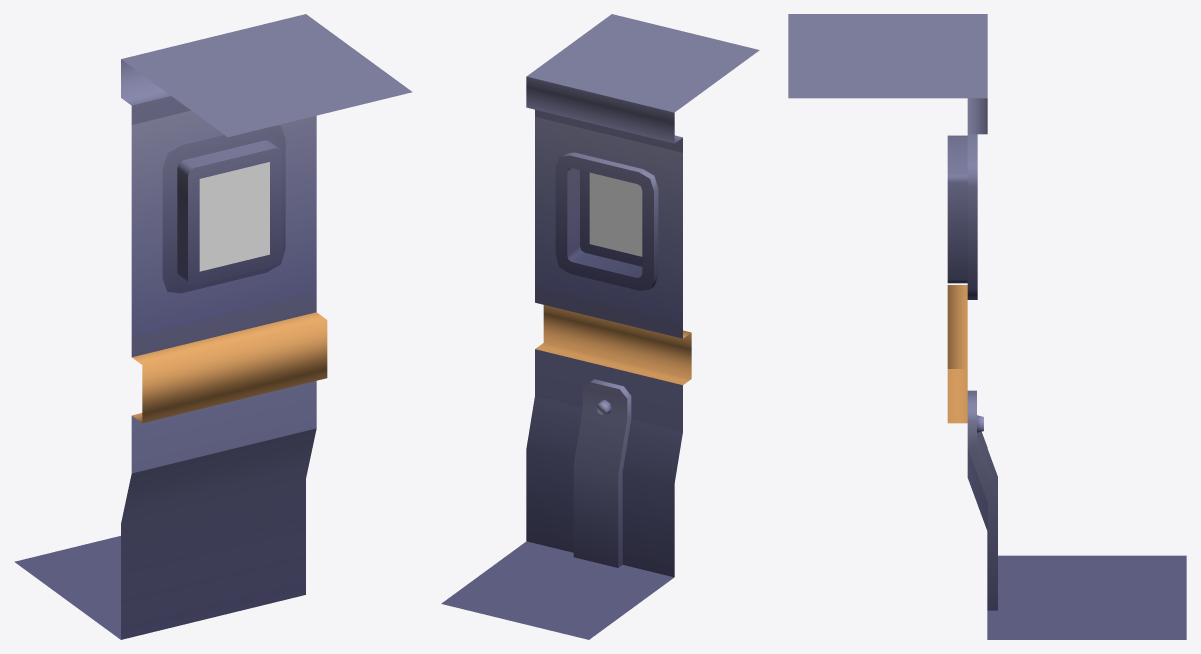
The model's file is kenney-factory-structure-window.glb.
3 views of the same model, side by side, from view 1: azimuth 30°, elevation 25°; view 2: azimuth 150°, elevation 25°; view 3: azimuth 270°, elevation 25° (orthographic). The views are drawn at different scales.
Parts seen in each view (by area): view 1: structure-window; view 2: structure-window; view 3: structure-window.
Boxes of the visible parts, x1,y1,x2,y2 form: structure-window: (14,14,412,639); structure-window: (441,14,759,639); structure-window: (788,14,1186,639).
Bounding box in the file's own units: 1.5 × 4.5 × 3.
1 material, 1 textured.
